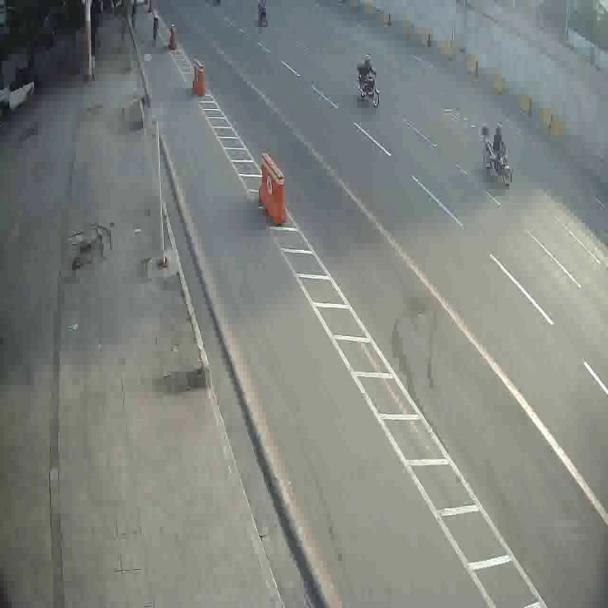motorcyclist: (479, 122, 509, 186), (354, 53, 378, 110)
